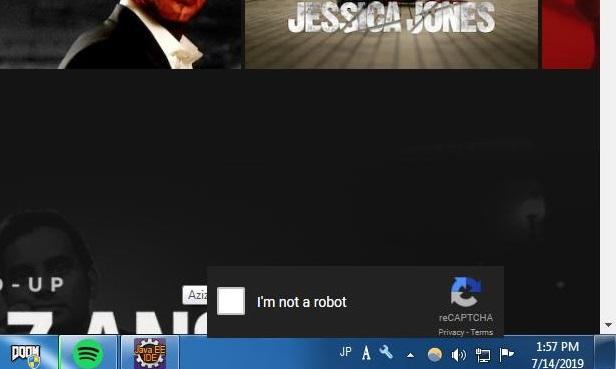captcha: (217, 287, 351, 315)
